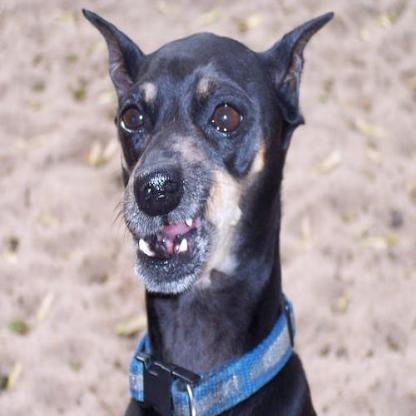miniature_pinscher: (80, 6, 335, 414)
